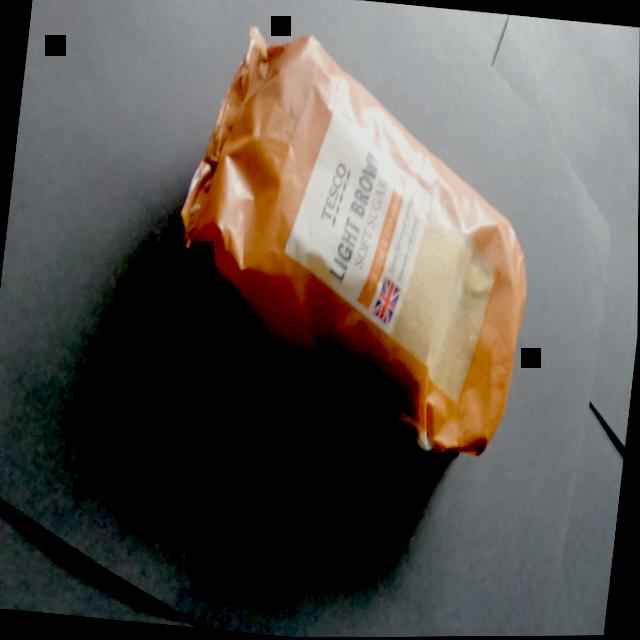Brownsugar: (133, 7, 581, 504)
